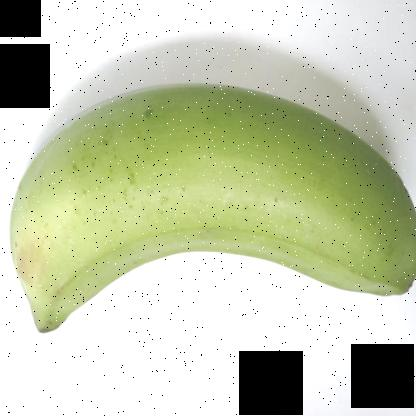freshunripe: (4, 74, 416, 359)
